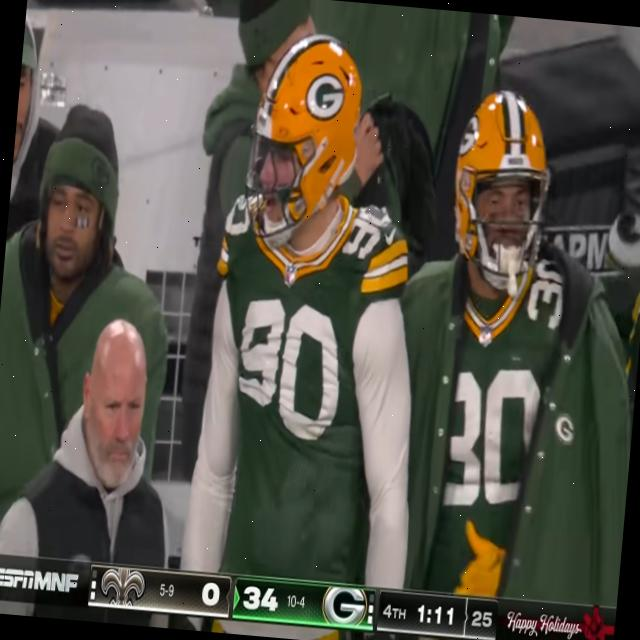Player: (206, 36, 438, 572)
